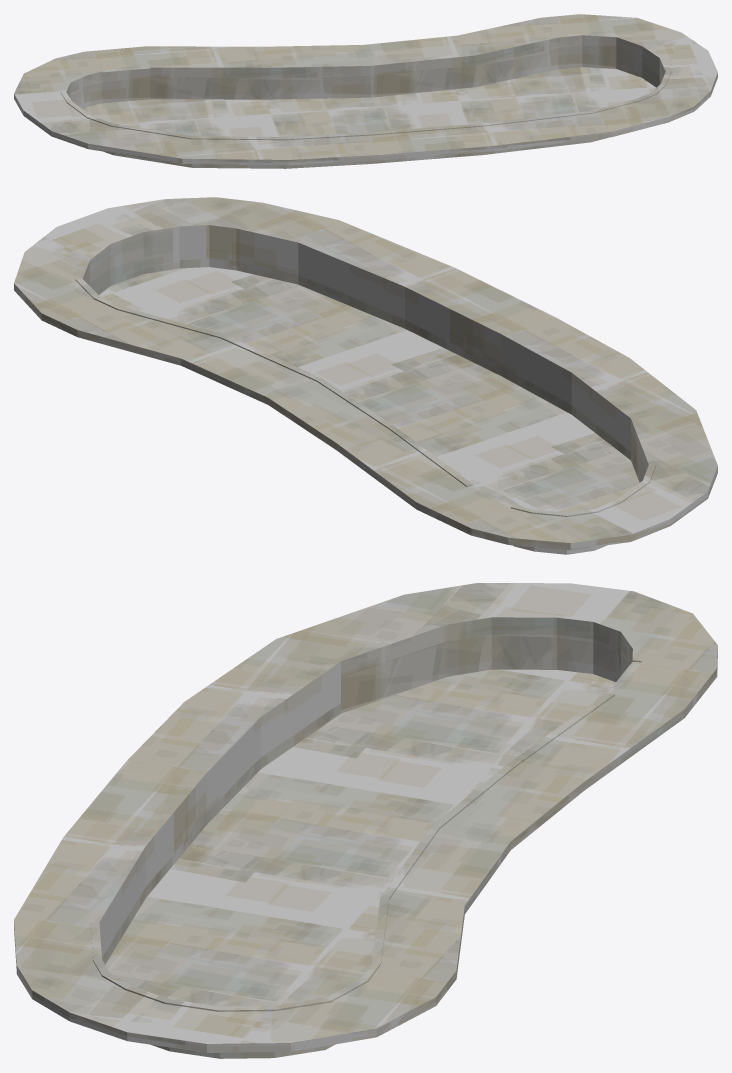
The model's file is Park_Pool.fbx.
3 views of the same model, one above another, from view 1: azimuth 30°, elevation 25°; view 2: azimuth 150°, elevation 25°; view 3: azimuth 270°, elevation 25° (orthographic). The views are drawn at different scales.
Visible parts, largest first — view 1: Park_Pool; view 2: Park_Pool; view 3: Park_Pool.
Boxes of the visible parts, left/top/right/bottom form: Park_Pool: left=14, top=14, right=717, bottom=168; Park_Pool: left=14, top=197, right=717, bottom=554; Park_Pool: left=14, top=583, right=717, bottom=1058.
Bounding box in the file's own units: 6053 × 320 × 3907.
